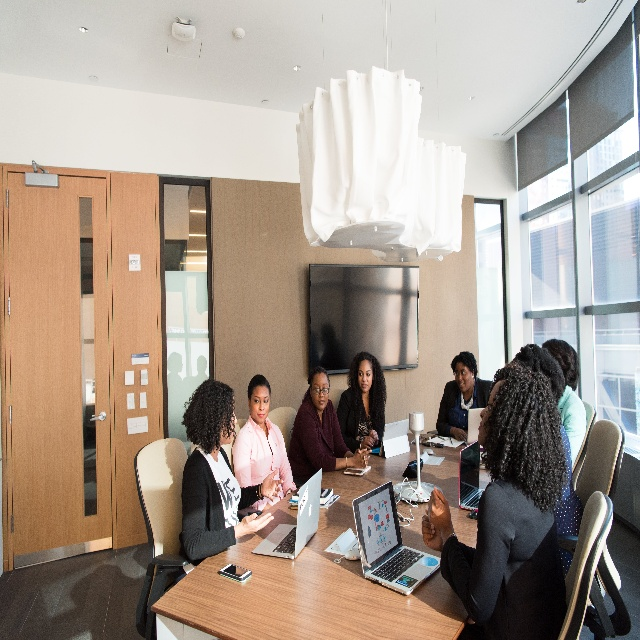Sin_guantes: (427, 485, 452, 530), (422, 508, 445, 552), (240, 510, 274, 535), (261, 467, 283, 503), (353, 447, 373, 469), (353, 447, 370, 469), (454, 424, 468, 444), (360, 436, 375, 449), (369, 428, 379, 447)
